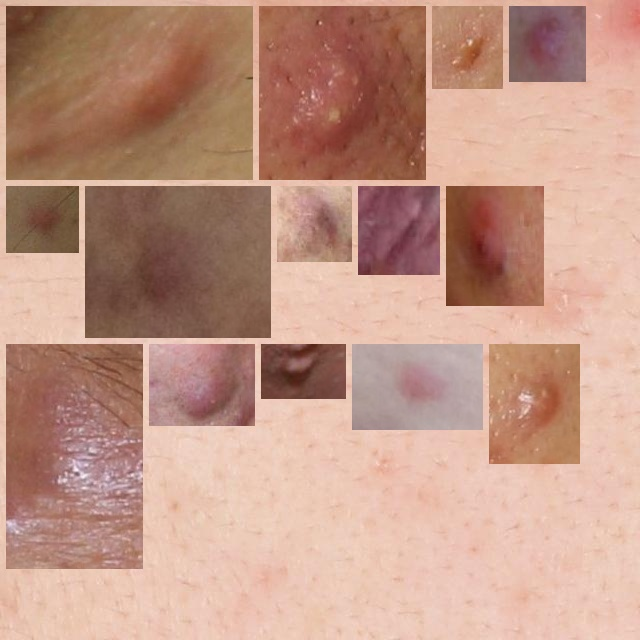nodule: (14, 14, 245, 172), (14, 352, 135, 561), (267, 14, 418, 172), (93, 194, 263, 330), (454, 194, 536, 298), (360, 352, 475, 422), (497, 352, 572, 456), (157, 352, 247, 418), (366, 194, 432, 267), (440, 14, 495, 81), (517, 14, 578, 74), (285, 194, 344, 254), (14, 194, 71, 245), (269, 352, 338, 391)
